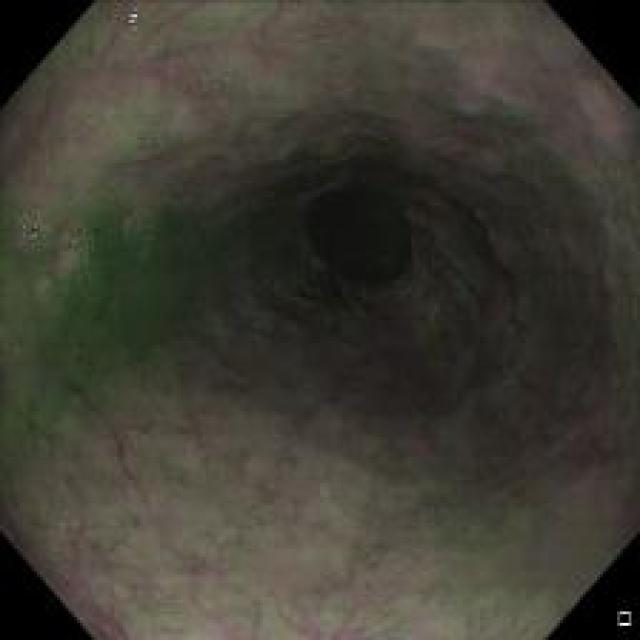bubbles: (50, 220, 99, 286), (18, 219, 40, 248)
color misalignment: (60, 225, 88, 258), (121, 4, 144, 41), (20, 221, 38, 240)
contrast: (208, 105, 500, 474)
